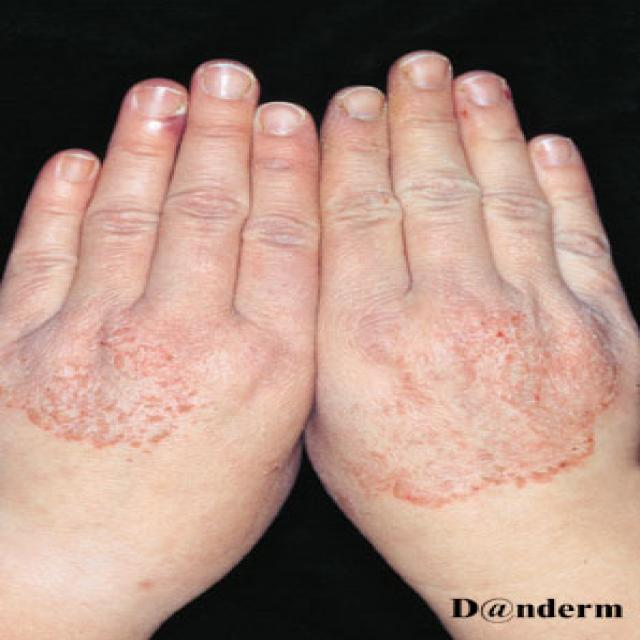eczema: (355, 280, 622, 516), (23, 307, 181, 457)
